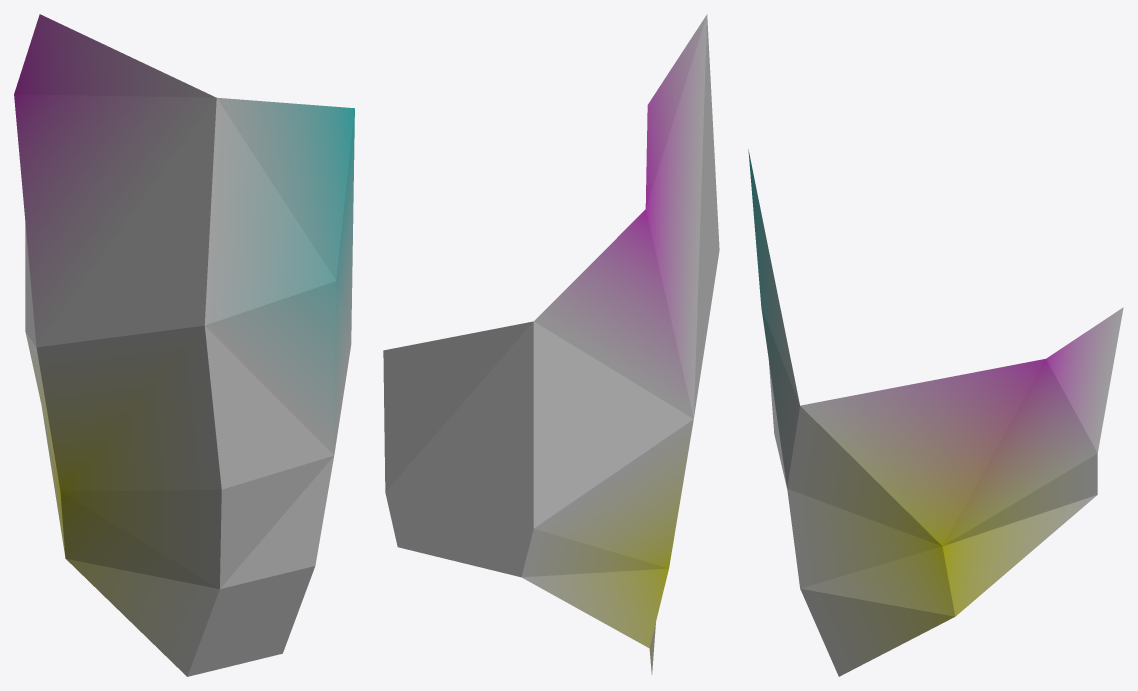
The picture shows the model from 3 angles, left to right: view 1: azimuth 30°, elevation 25°; view 2: azimuth 150°, elevation 25°; view 3: azimuth 270°, elevation 25°; orthographic projection. The views are drawn at different scales.
Parts seen in each view (by area): view 1: model_1142; view 2: model_1142; view 3: model_1142.
Part boxes in pixels (x1=…): model_1142: x1=14, y1=14, x2=354, y2=676; model_1142: x1=383, y1=14, x2=719, y2=674; model_1142: x1=748, y1=149, x2=1123, y2=676.
Size of the model in its own units: 20 by 50 by 29.
